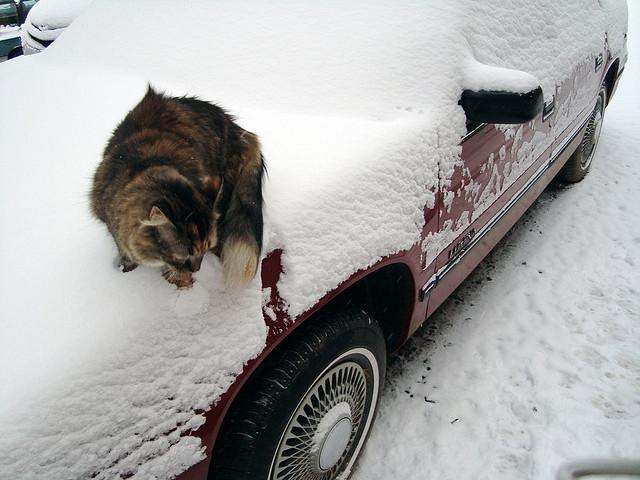car: (2, 0, 628, 474)
